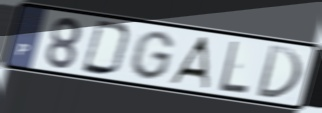8: (45, 16, 82, 70)
A: (166, 35, 211, 91)
D: (79, 18, 134, 78), (254, 43, 304, 102)
G: (127, 29, 177, 82)
L: (217, 39, 250, 96)
